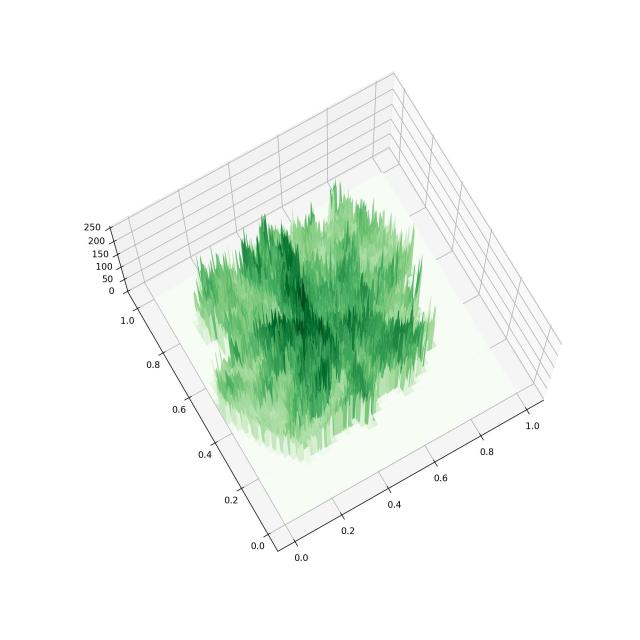spruce: (56, 48, 589, 587)
